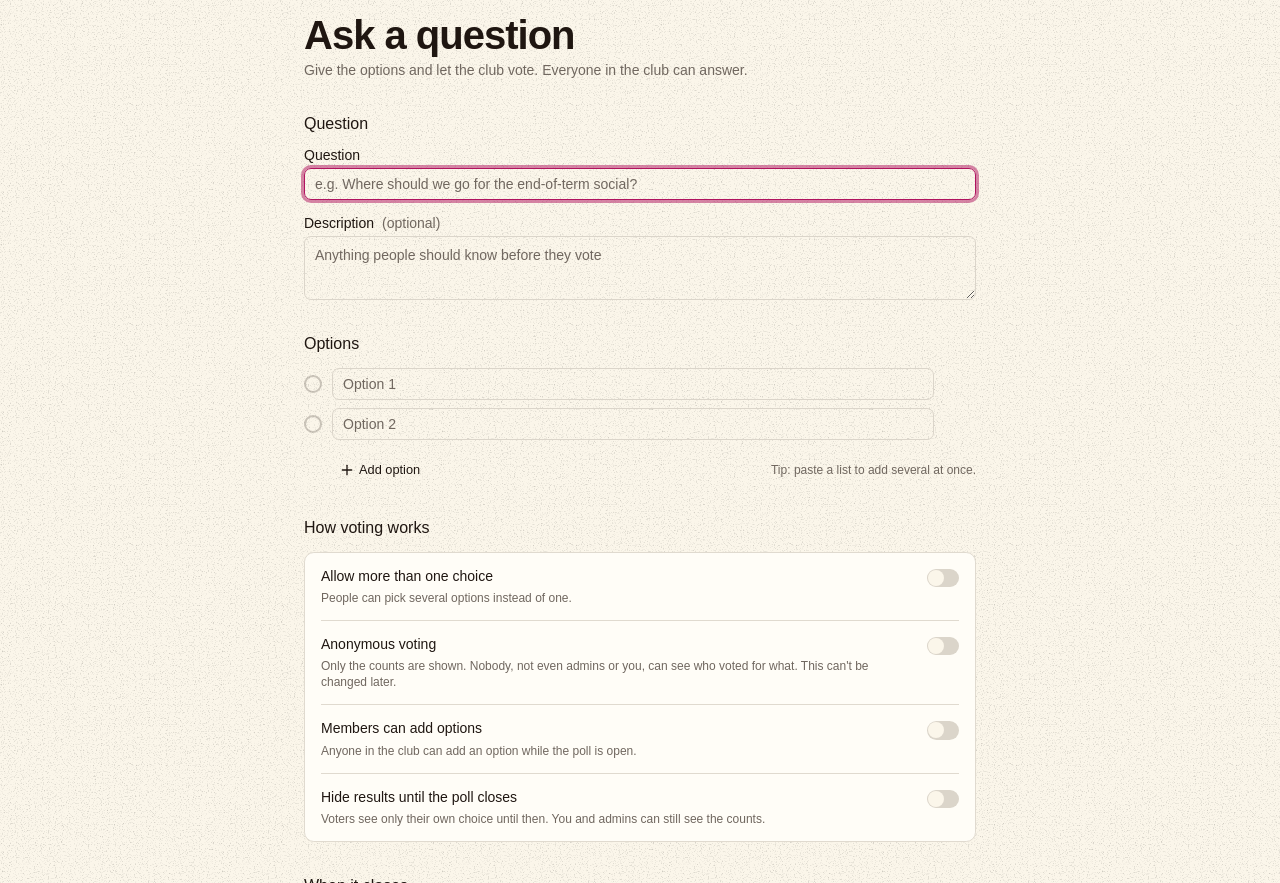
it: QuestionPollForm › asks for a question and two different options before it sends
Type "Pizza or tacos?" into the field labelled "Question".
click(640, 184); type("Pizza or tacos?")  # box [304,168,976,200]
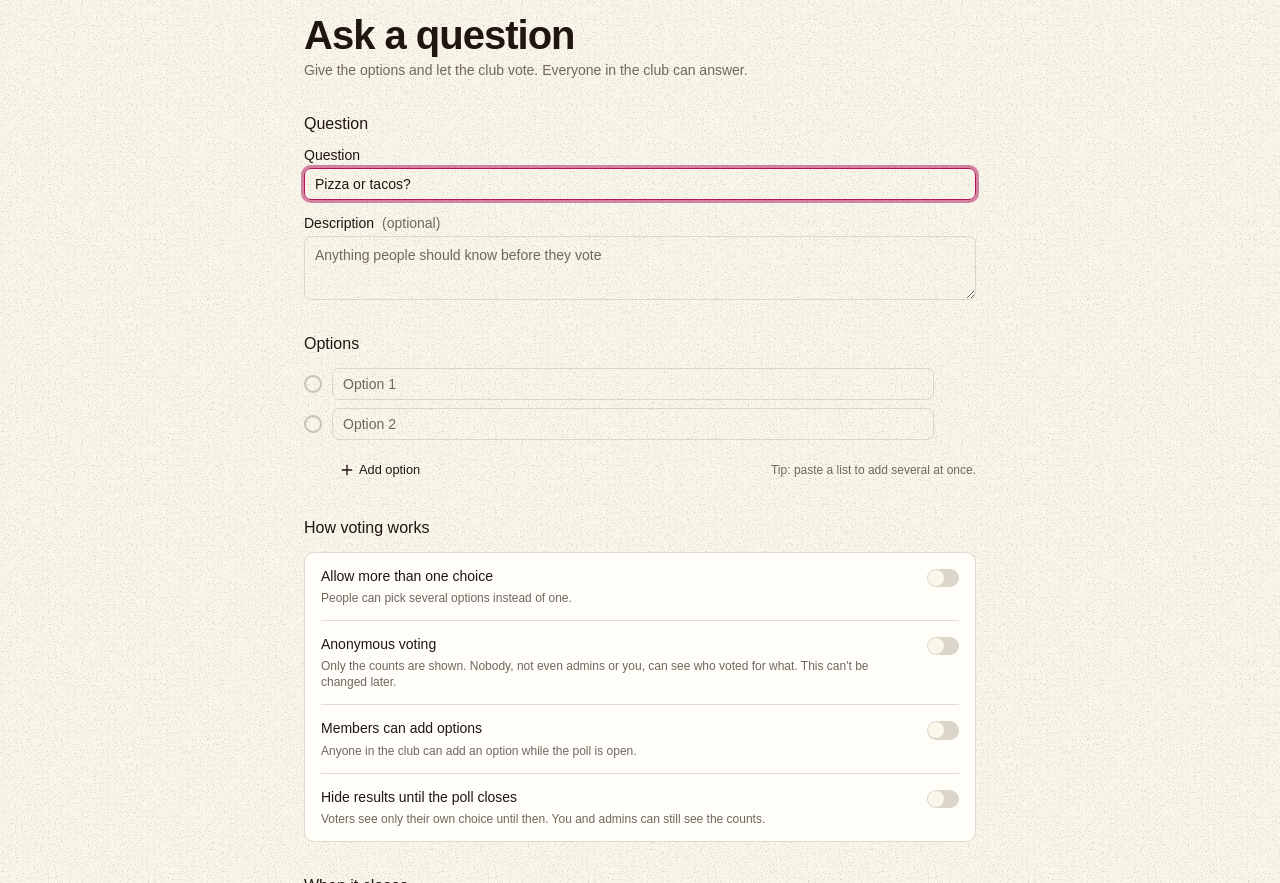
Type "Pizza" into the field with placeholder "Option 1".
click(633, 384); type("Pizza")  # box [332,368,934,400]
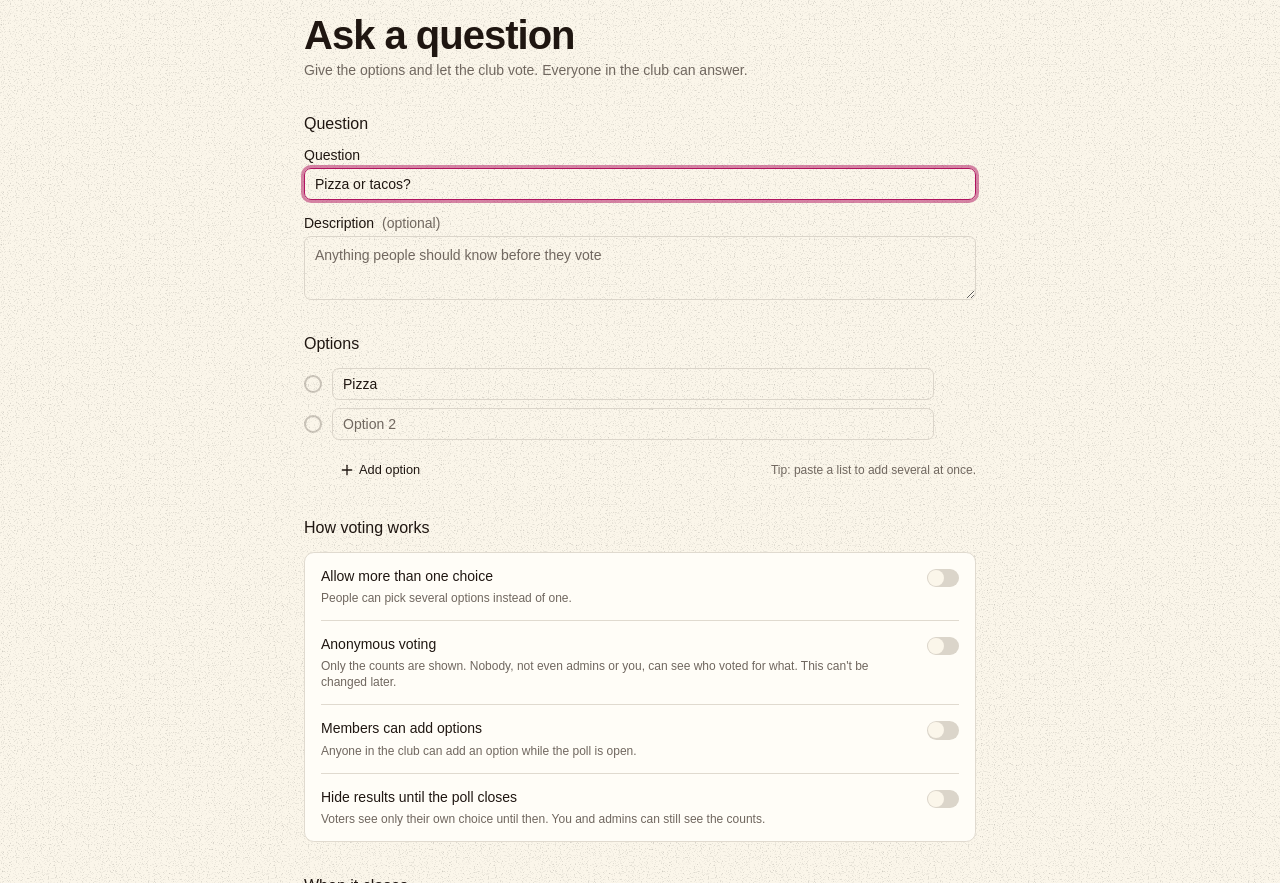
Type " PIZZA " into the field with placeholder "Option 2".
click(633, 424); type(" PIZZA ")  # box [332,408,934,440]
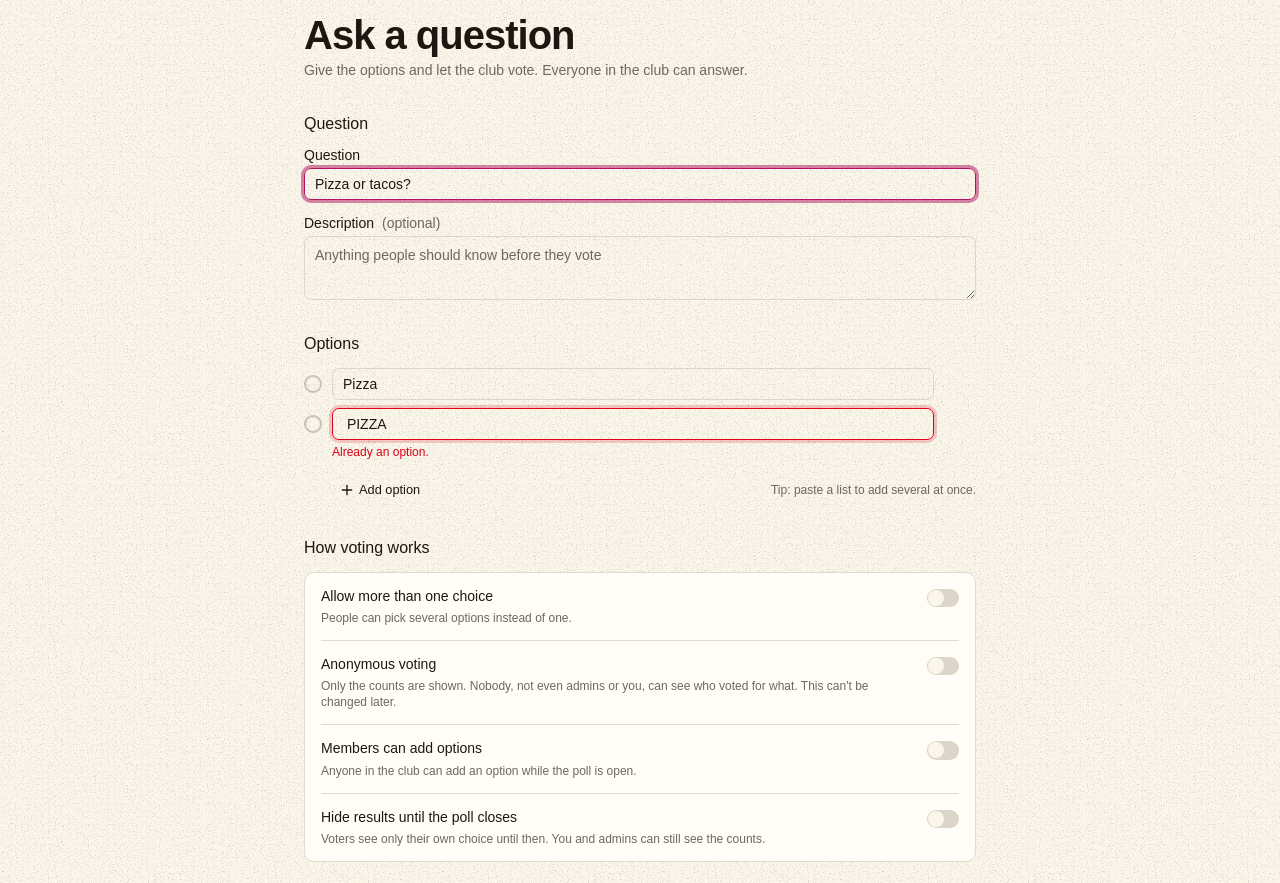
Expected: the text "Already an option." is shown, [332,445,429,459]
Replace the text in the field named "Option 2" with "Tacos" at x=633, y=424, box [332,408,934,440]
(page scrolled)
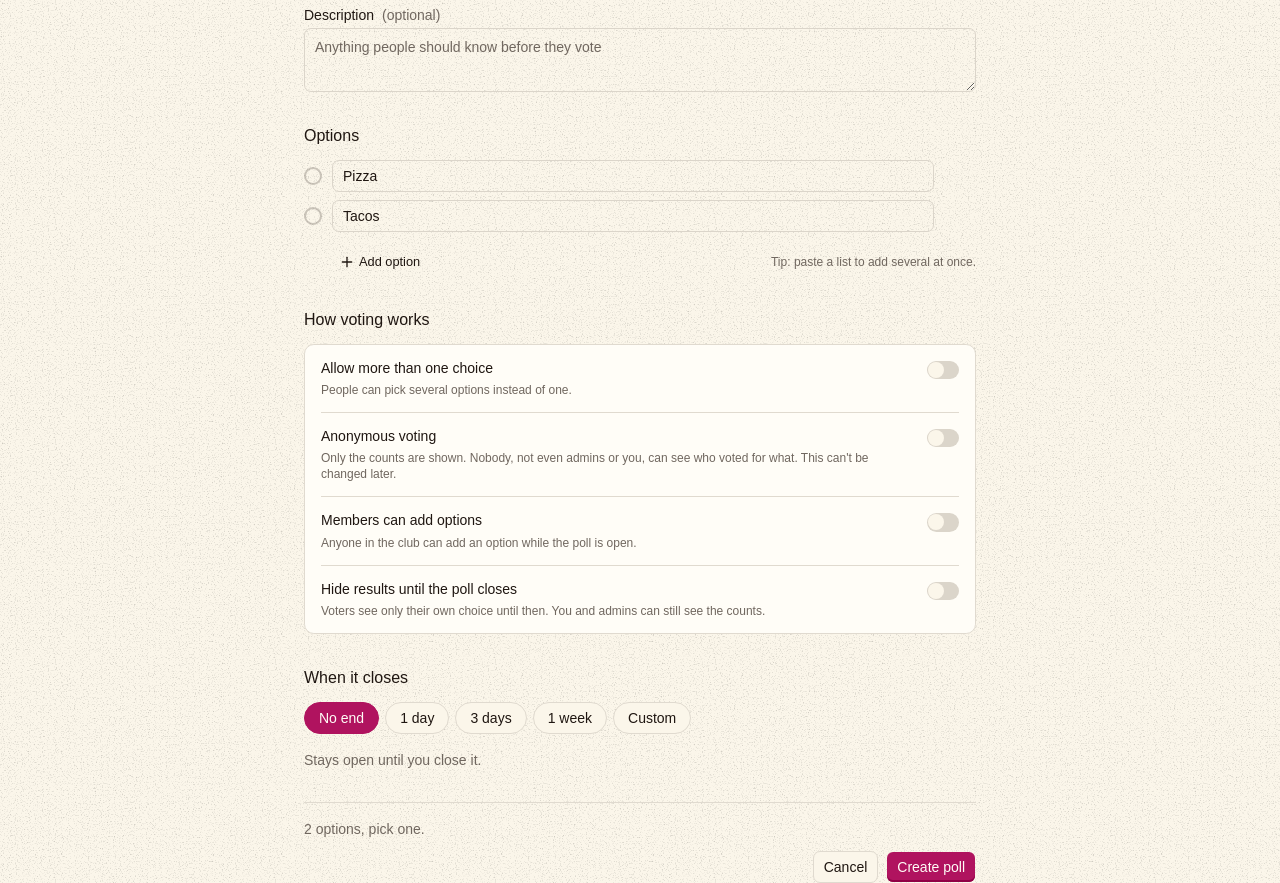
Expected: the button "Create poll" is enabled, [886,851,976,882]
